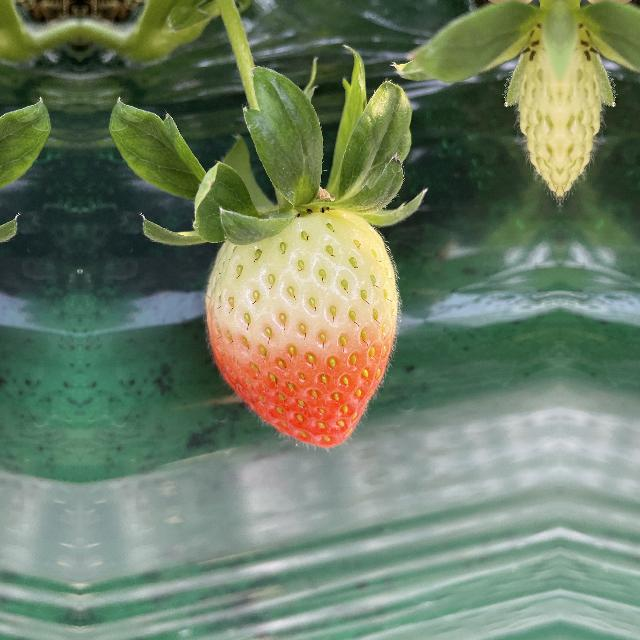Health_75: (198, 213, 404, 447)
